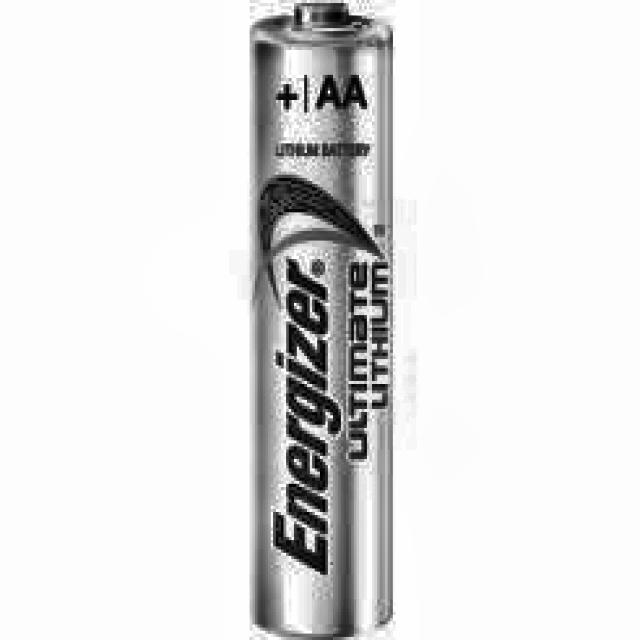Battery: (252, 9, 393, 631)
